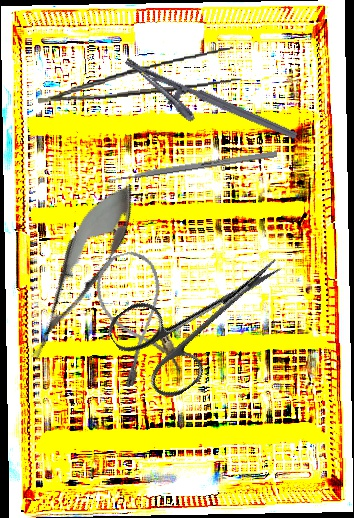Cannula: (88, 246, 184, 389)
Iris Scissors: (102, 221, 307, 408)
Micro Scissor: (12, 171, 151, 371)
Needle Holder: (113, 55, 299, 165)
Pusher: (99, 150, 278, 185)
Tissue Forceps: (35, 46, 243, 105)
